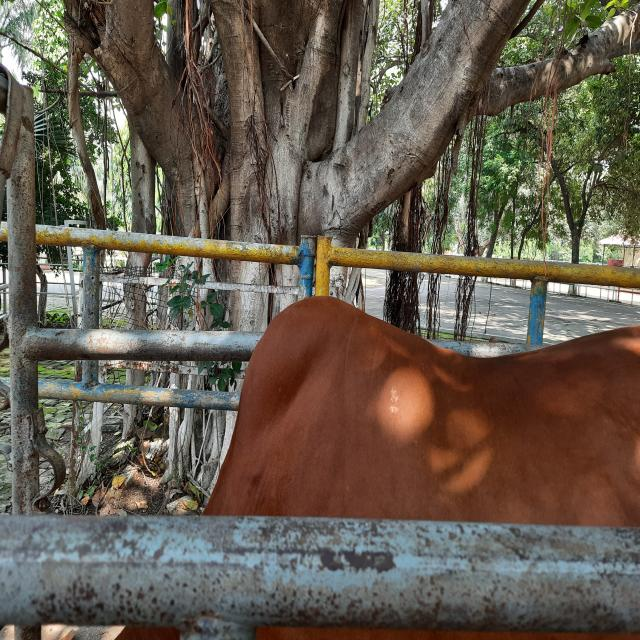hump: (240, 257, 384, 393)
